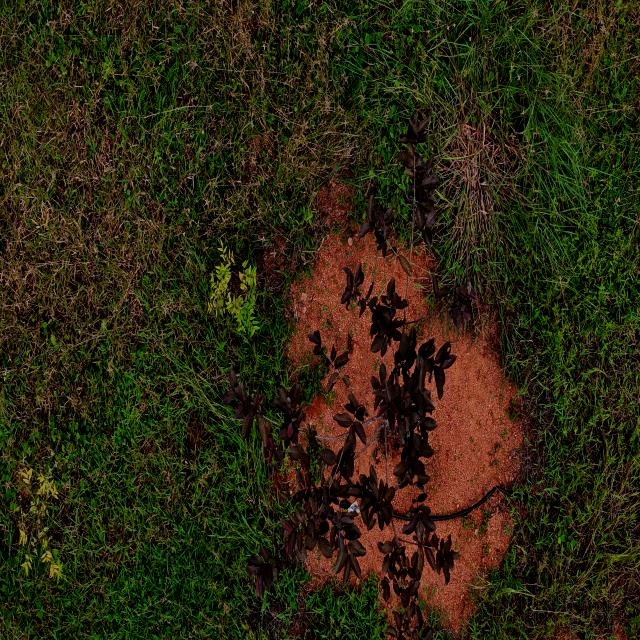notMangoTree: (172, 257, 502, 640)
